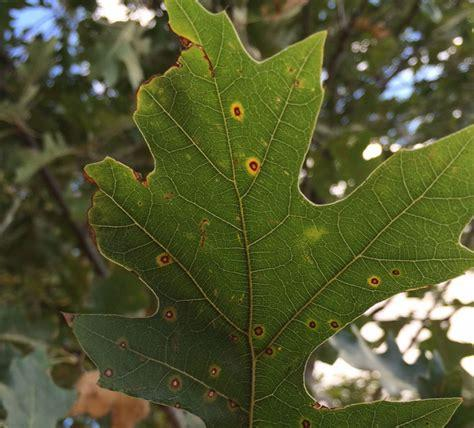black-spot: (229, 96, 268, 185), (367, 269, 383, 288)
